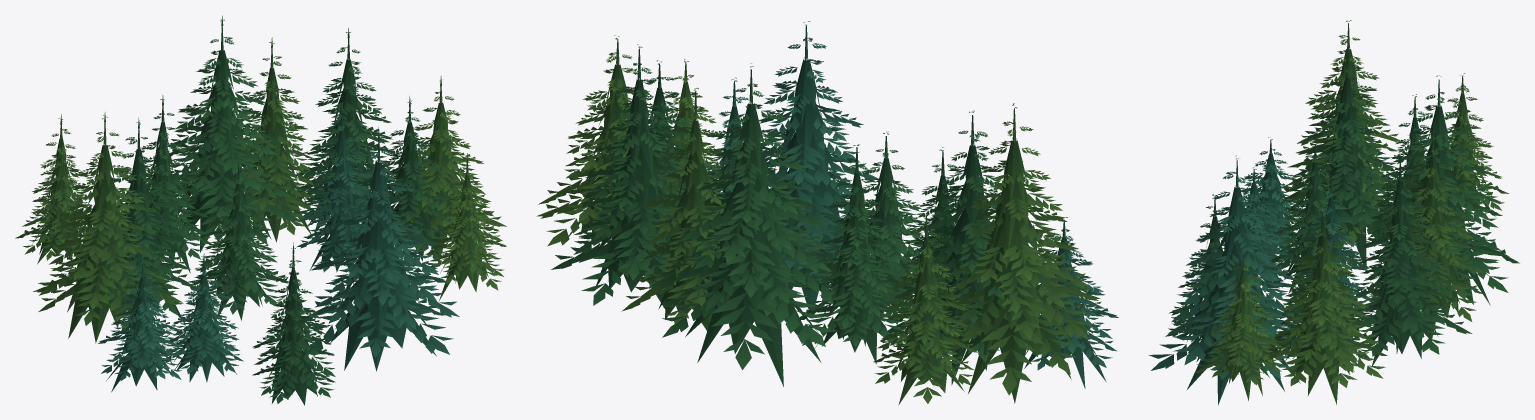
The picture shows the model from 3 angles, left to right: view 1: azimuth 30°, elevation 25°; view 2: azimuth 150°, elevation 25°; view 3: azimuth 270°, elevation 25°; orthographic projection. The views are drawn at different scales.
Parts seen in each view (by area): view 1: pn_4; view 2: pn_4; view 3: pn_4.
Part boxes in pixels (x1,y1,x2,y2): pn_4: (15, 15, 506, 405); pn_4: (536, 21, 1118, 405); pn_4: (1148, 20, 1519, 405).
Bounding box in the file's own units: 34.26 × 22.79 × 24.91.
1 material, 1 textured.
